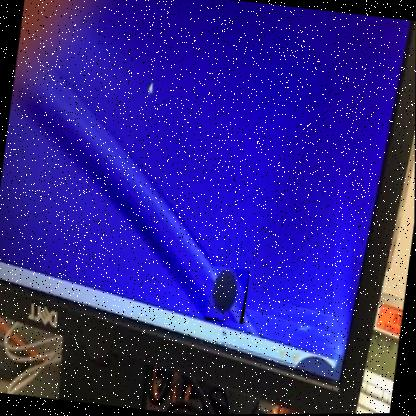spot: (204, 266, 250, 325)
